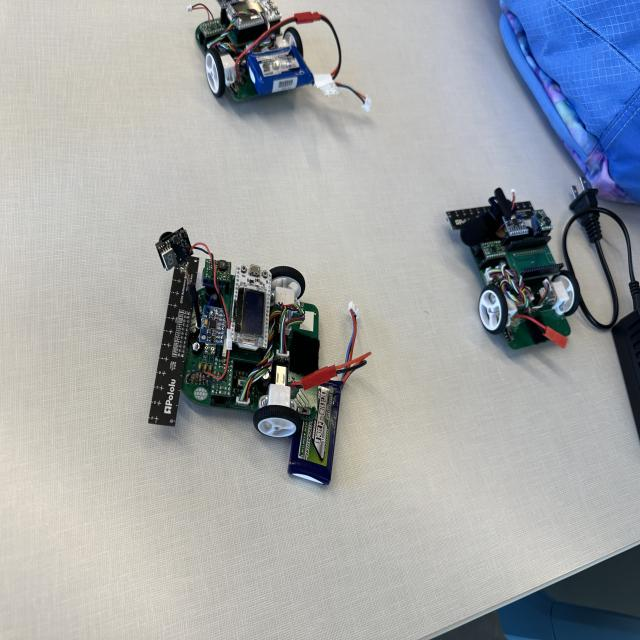robot: (143, 197, 383, 493), (433, 167, 590, 366), (185, 0, 371, 112)
